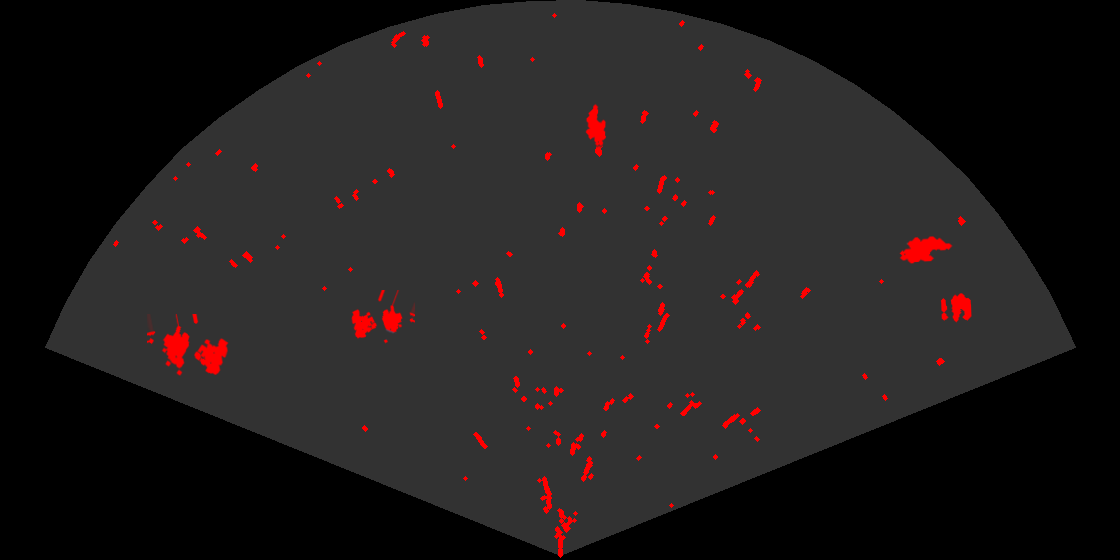AUV: (898, 235, 954, 266), (584, 102, 608, 148)
ball: (939, 292, 973, 324)
cage: (147, 314, 230, 377), (350, 290, 415, 345)
